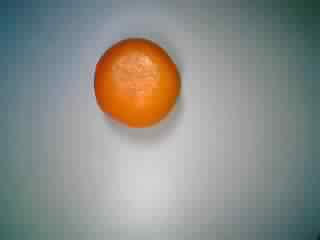orange: (87, 33, 182, 127)
